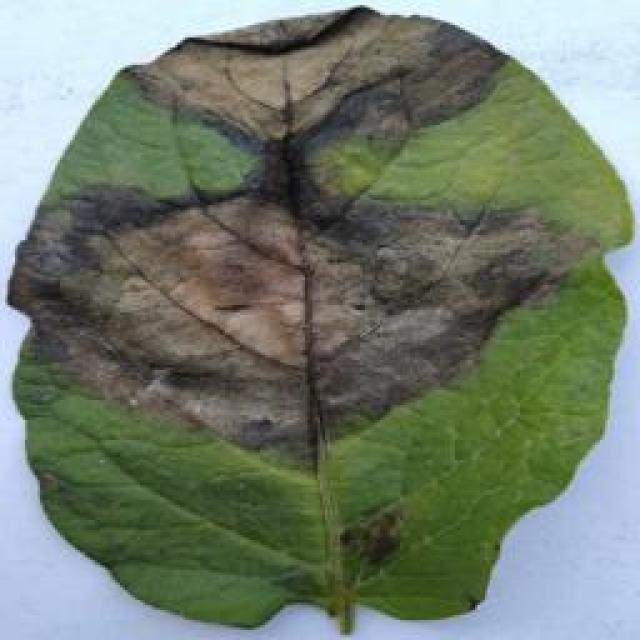Potato_Late_Blight: (2, 17, 635, 640)
